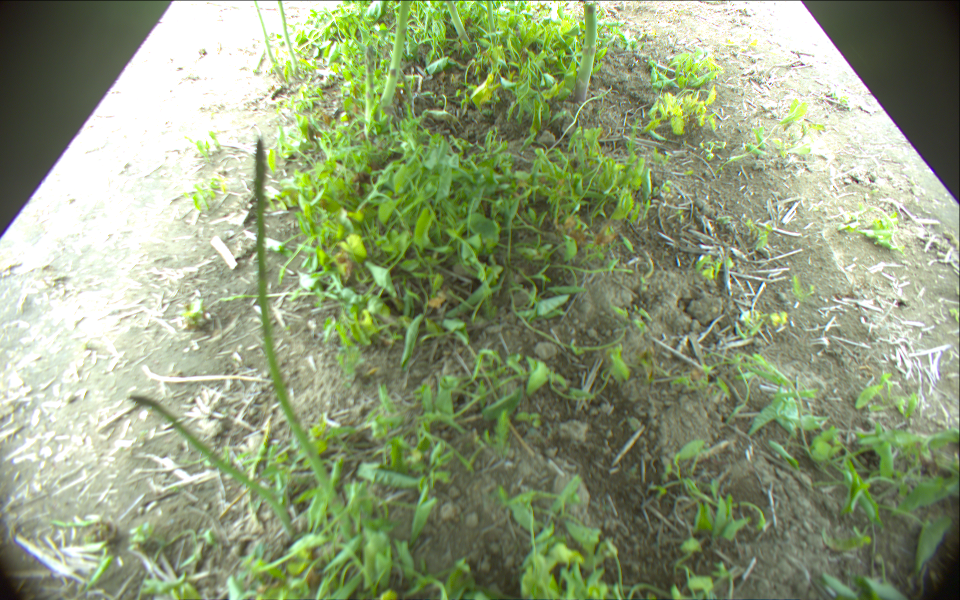aspa: (254, 138, 356, 530), (128, 392, 295, 537), (380, 1, 410, 110), (571, 2, 598, 103), (276, 1, 301, 72), (253, 1, 276, 69), (443, 1, 472, 47), (361, 44, 375, 135), (485, 1, 499, 43)
